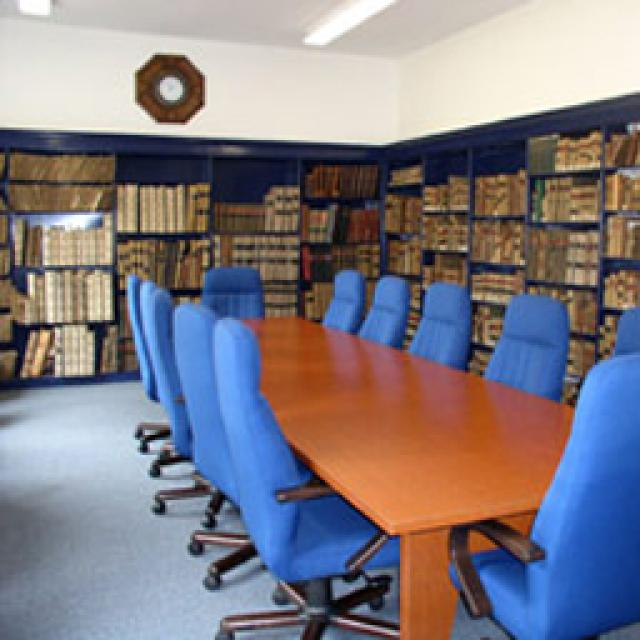books crop: (10, 270, 110, 318), (12, 215, 108, 260), (112, 180, 205, 225), (208, 230, 295, 278), (18, 328, 108, 370), (210, 185, 295, 228), (525, 225, 592, 278), (530, 172, 595, 218), (298, 202, 375, 240), (525, 132, 598, 170), (8, 150, 110, 175), (300, 162, 375, 190), (472, 168, 522, 210), (468, 220, 520, 258), (422, 172, 468, 208), (382, 190, 418, 228), (385, 238, 418, 270)
bookshelves: (0, 128, 382, 385), (382, 90, 635, 408)
ceiling lamps: (295, 0, 388, 42), (18, 0, 48, 12)
chair: (482, 290, 568, 398), (402, 278, 472, 372), (352, 272, 410, 348), (200, 265, 265, 315), (318, 268, 362, 332)
chair -occluded-: (210, 315, 398, 635), (445, 352, 635, 635), (168, 298, 232, 500), (145, 285, 192, 452)
clock crop: (132, 50, 202, 120)
conference table: (230, 312, 570, 635)
